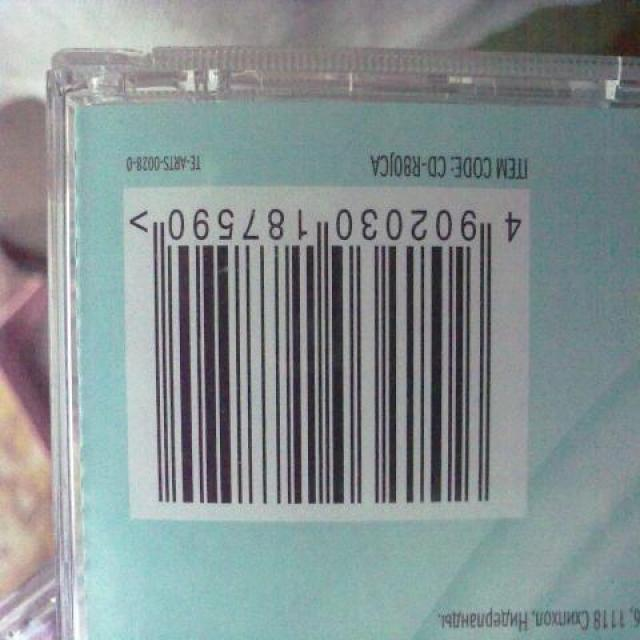Barcode: (121, 185, 532, 518)
